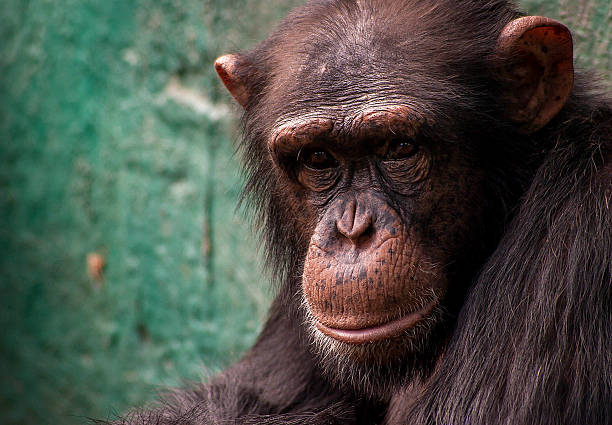chimpanzee: (207, 3, 581, 398)
